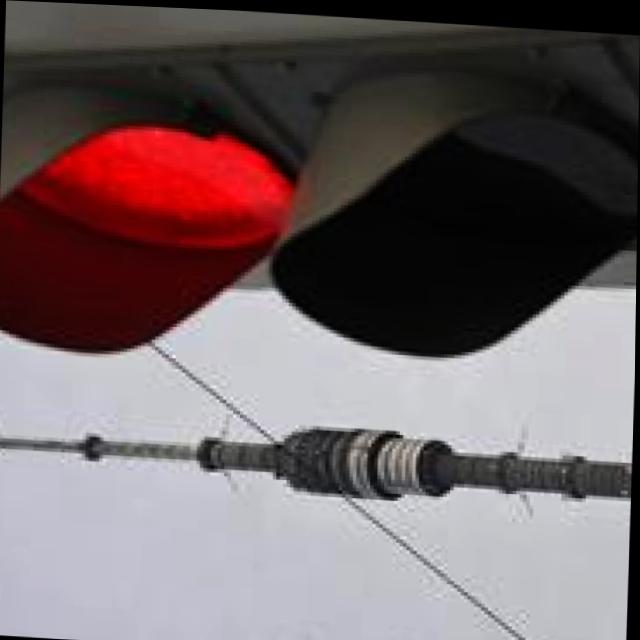red_light: (0, 43, 288, 410)
